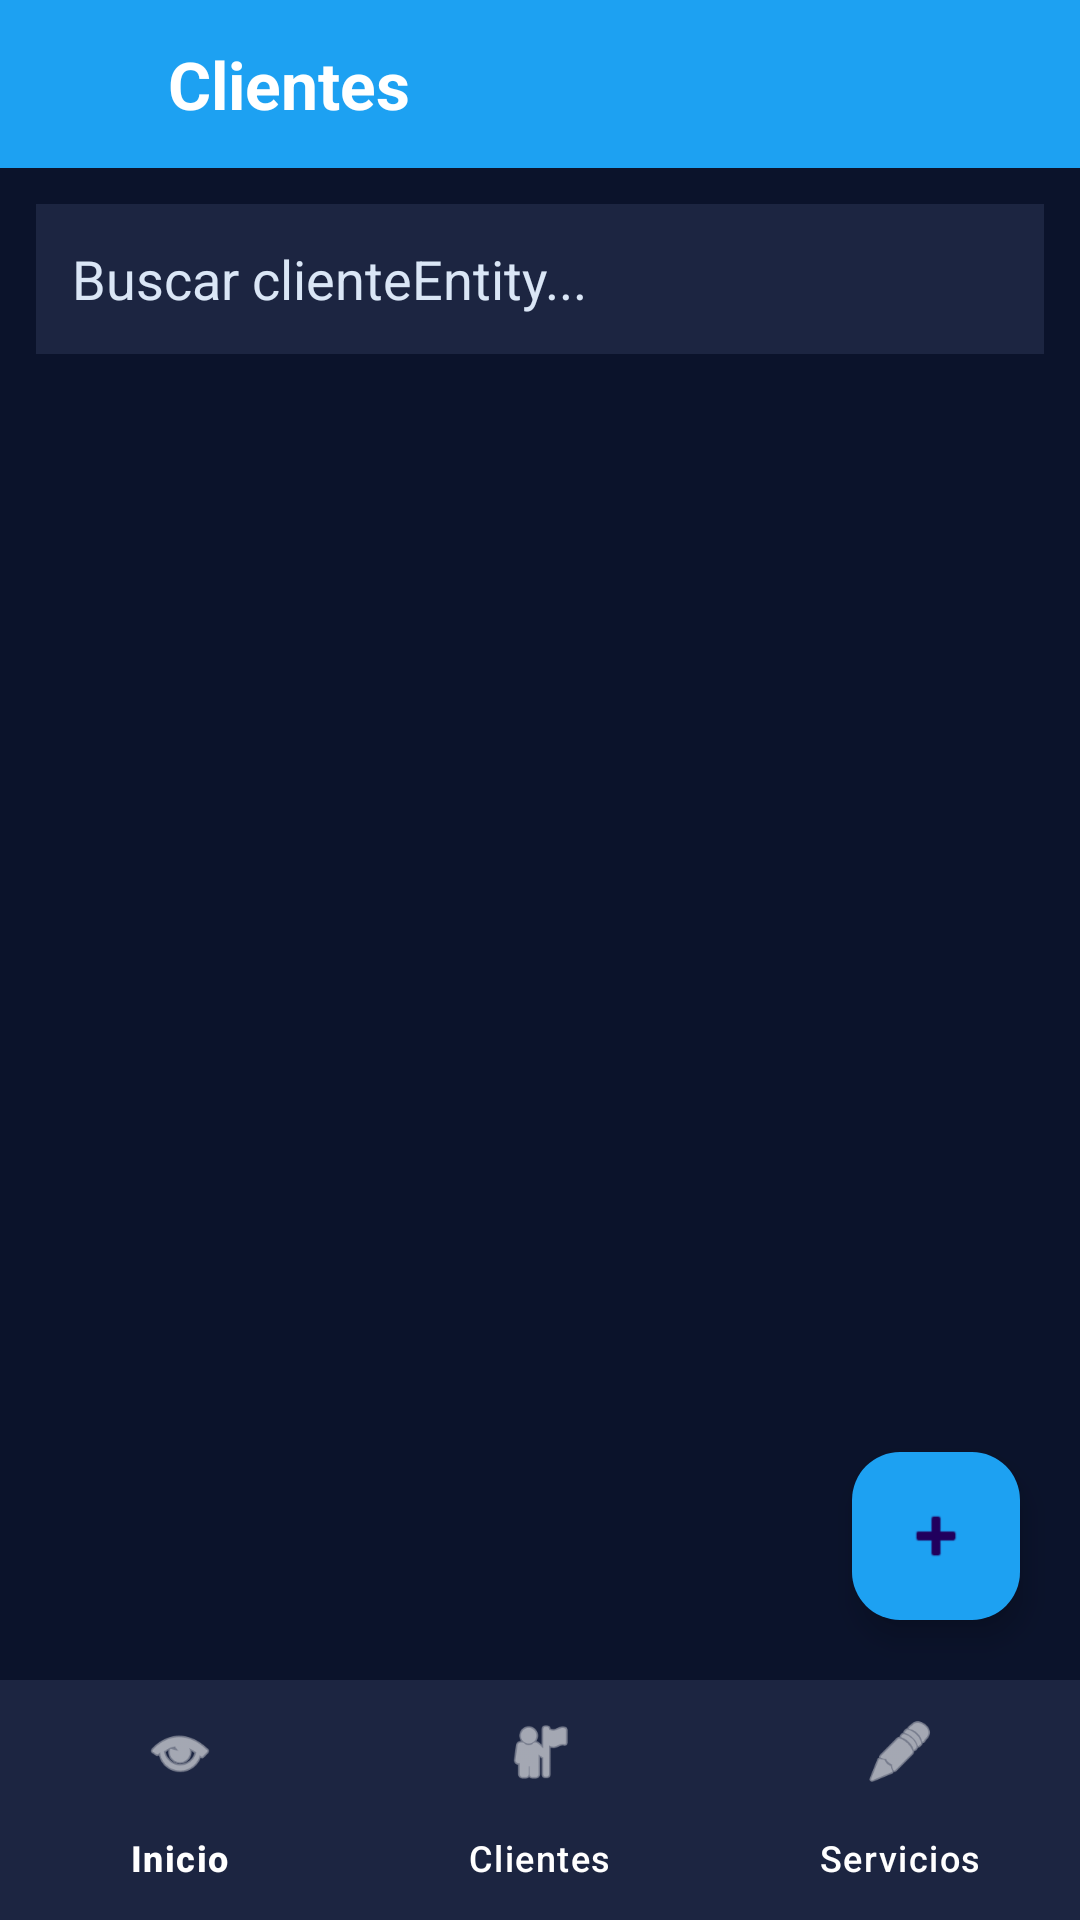

Icons on this 1080*1920 Android screen, each with the point to tap as (x,y):
add: (936,1536)
